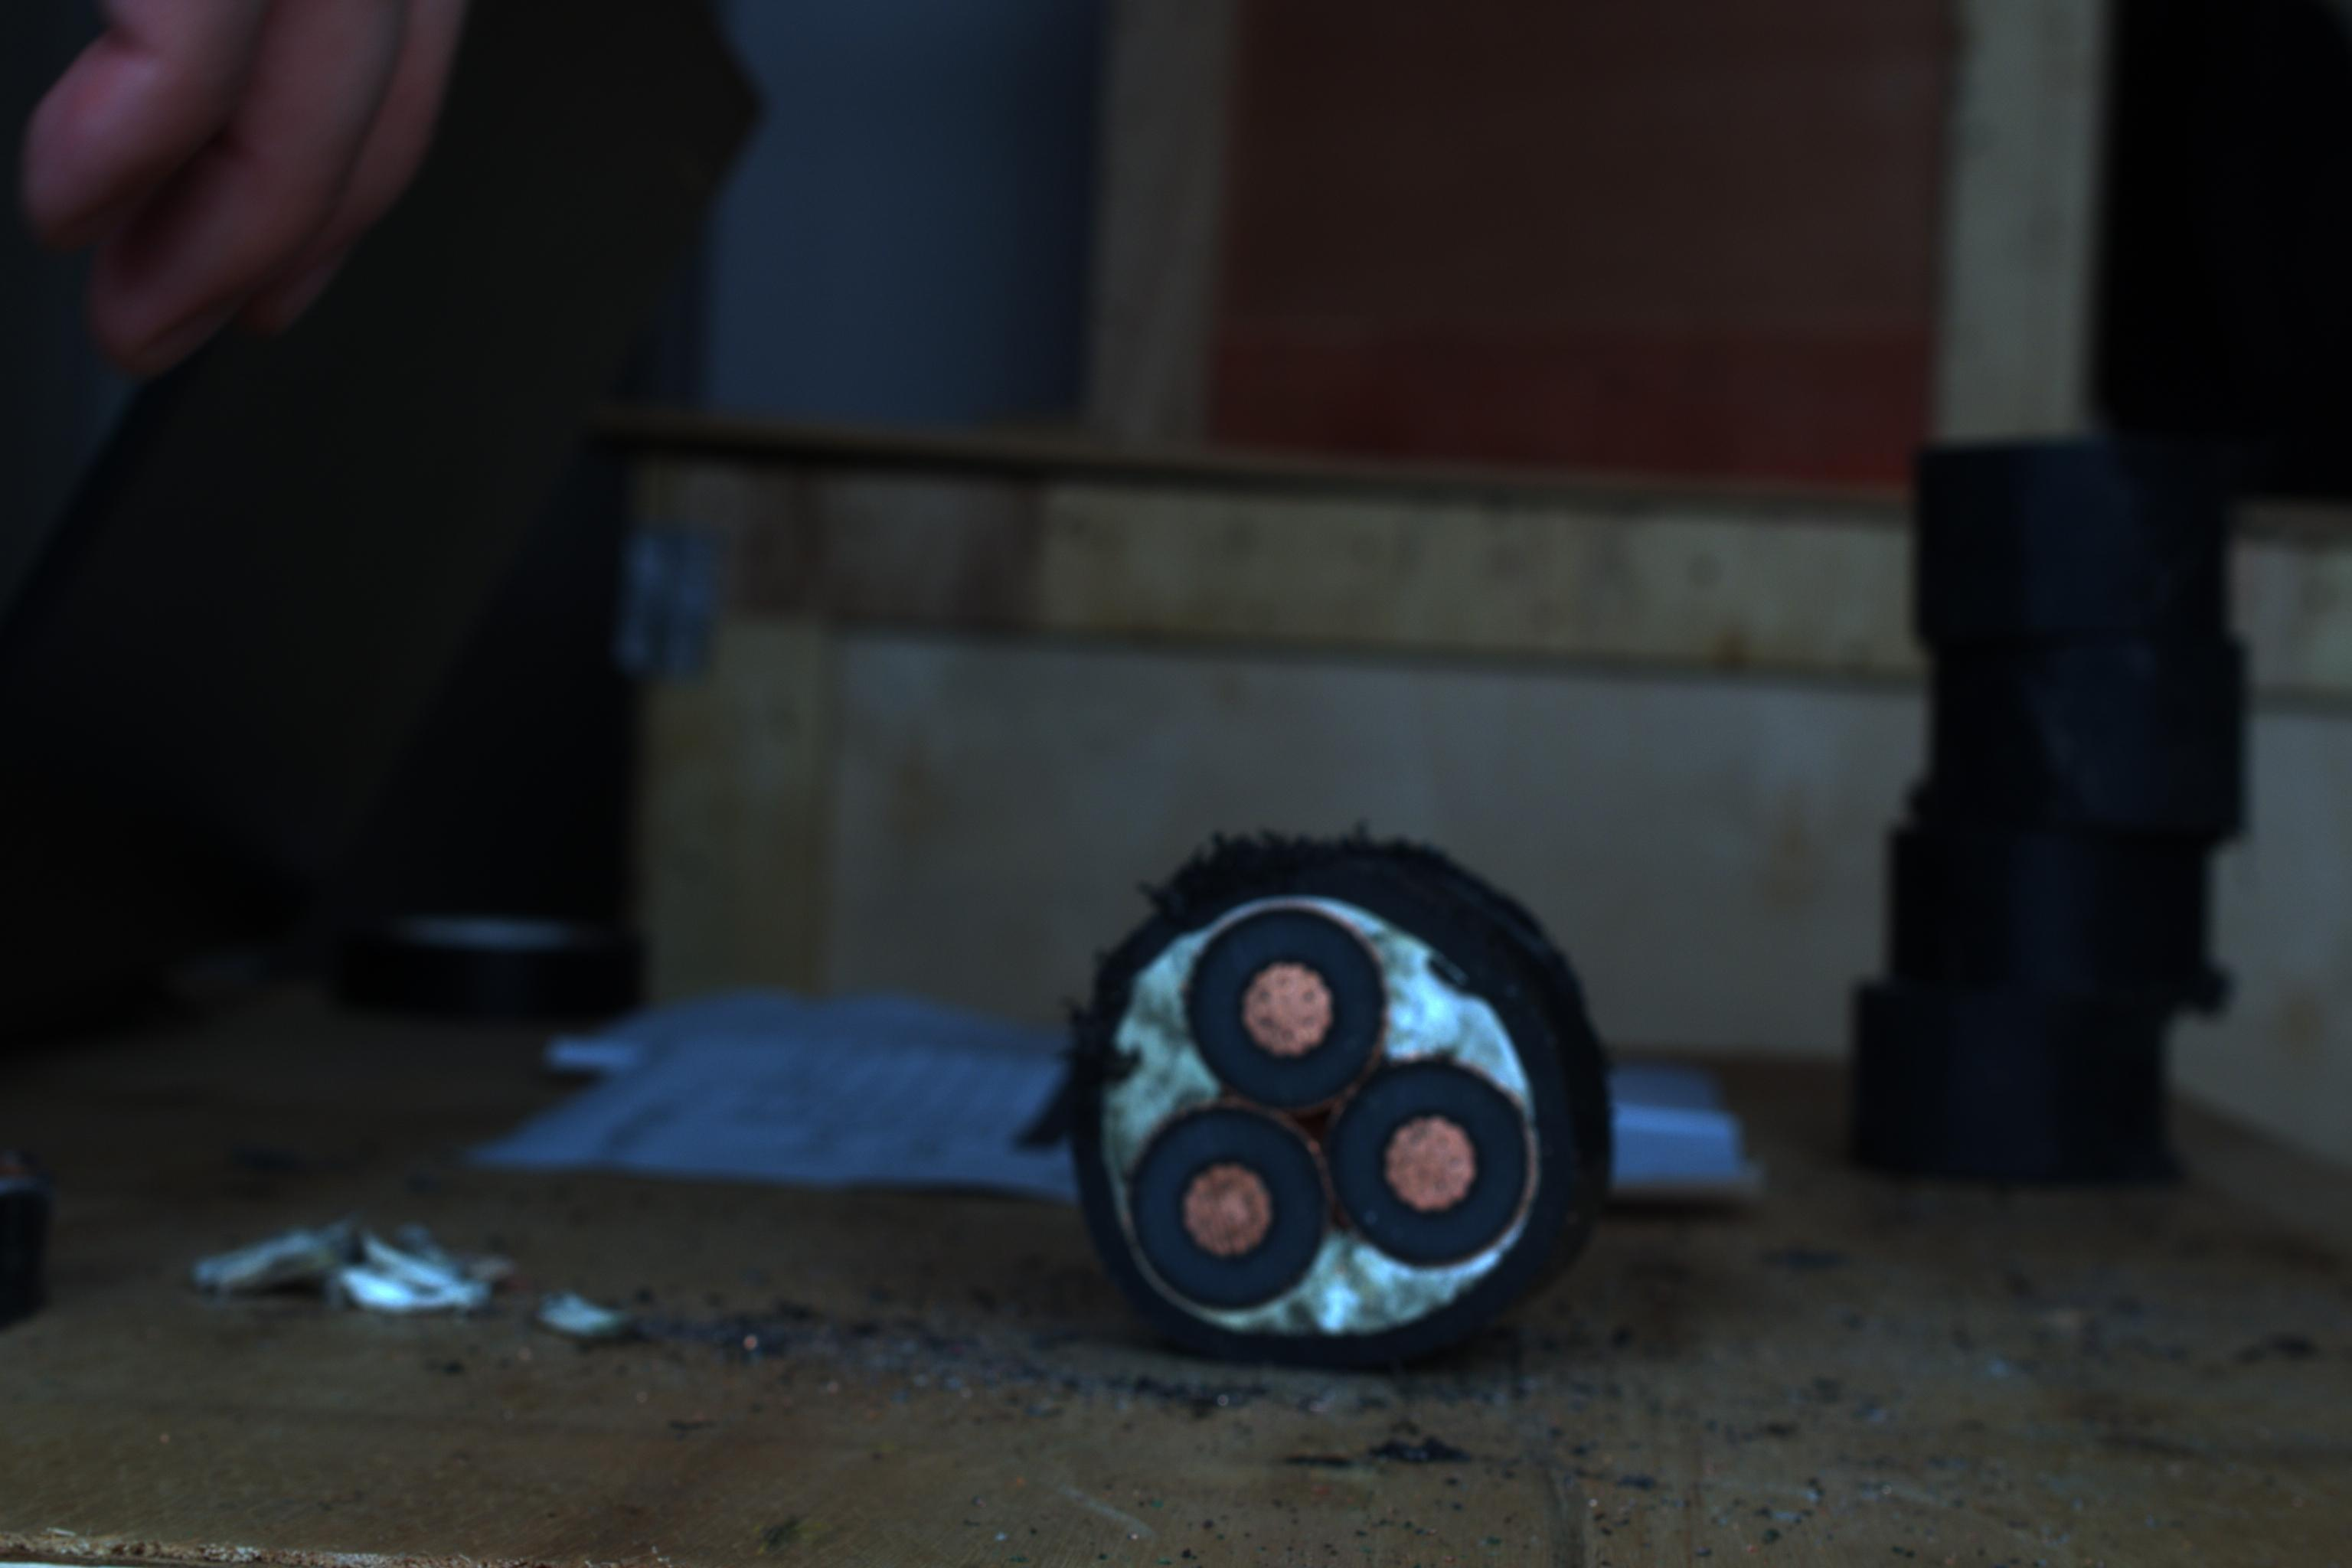YJV_8.7_10kV_3x70: (1080, 857, 1573, 1351)
